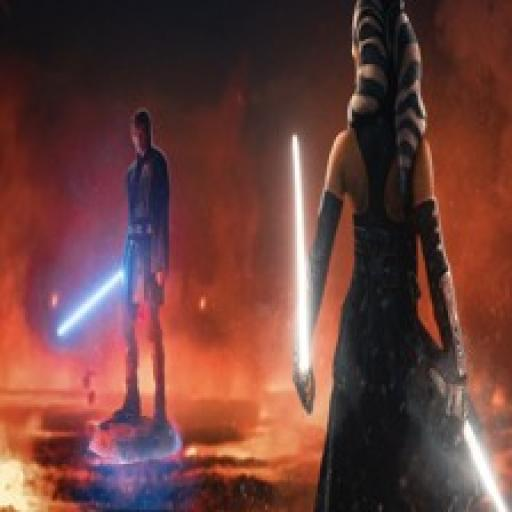human: (284, 2, 484, 512), (97, 92, 181, 430)
lightsaber: (426, 362, 512, 512), (289, 131, 320, 416), (50, 266, 131, 346)
